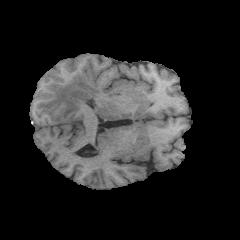glioma: (36, 72, 111, 119)
